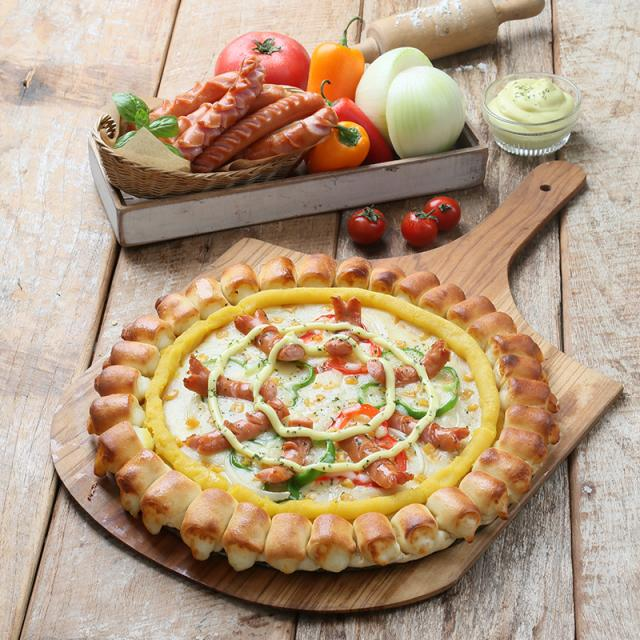Wet Waste: (89, 245, 560, 577)
